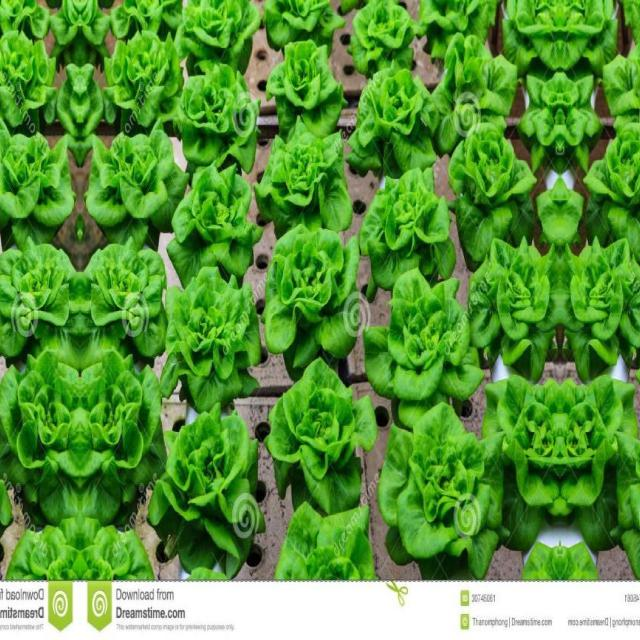healthy: (384, 402, 500, 580), (150, 406, 262, 578), (364, 269, 486, 425), (266, 360, 378, 510), (80, 351, 166, 525), (162, 266, 264, 409), (264, 226, 362, 374), (0, 351, 80, 525), (466, 235, 560, 381), (482, 372, 560, 542), (560, 372, 638, 542), (444, 128, 536, 266), (359, 168, 456, 294), (560, 235, 640, 381), (254, 118, 352, 236), (80, 234, 168, 360), (349, 61, 438, 181), (172, 166, 262, 284), (88, 134, 188, 240), (0, 234, 80, 359), (430, 36, 516, 148), (176, 65, 258, 175), (105, 30, 189, 134), (272, 502, 380, 582), (0, 133, 72, 240), (584, 128, 640, 265), (264, 40, 344, 134), (173, 1, 264, 74), (0, 30, 55, 134), (346, 0, 424, 68), (422, 0, 502, 58), (262, 0, 344, 56), (504, 0, 560, 76), (560, 0, 616, 76), (80, 525, 150, 585), (10, 525, 80, 585), (604, 36, 640, 148), (520, 72, 560, 172), (560, 72, 600, 172), (620, 402, 640, 580), (109, 1, 181, 42), (80, 0, 116, 70), (44, 0, 80, 70), (0, 0, 51, 41), (0, 405, 9, 578), (618, 0, 640, 58), (634, 269, 640, 425)
